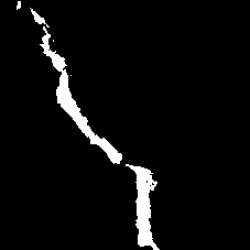crack: (29, 8, 122, 165), (127, 164, 156, 249), (16, 2, 22, 12)
